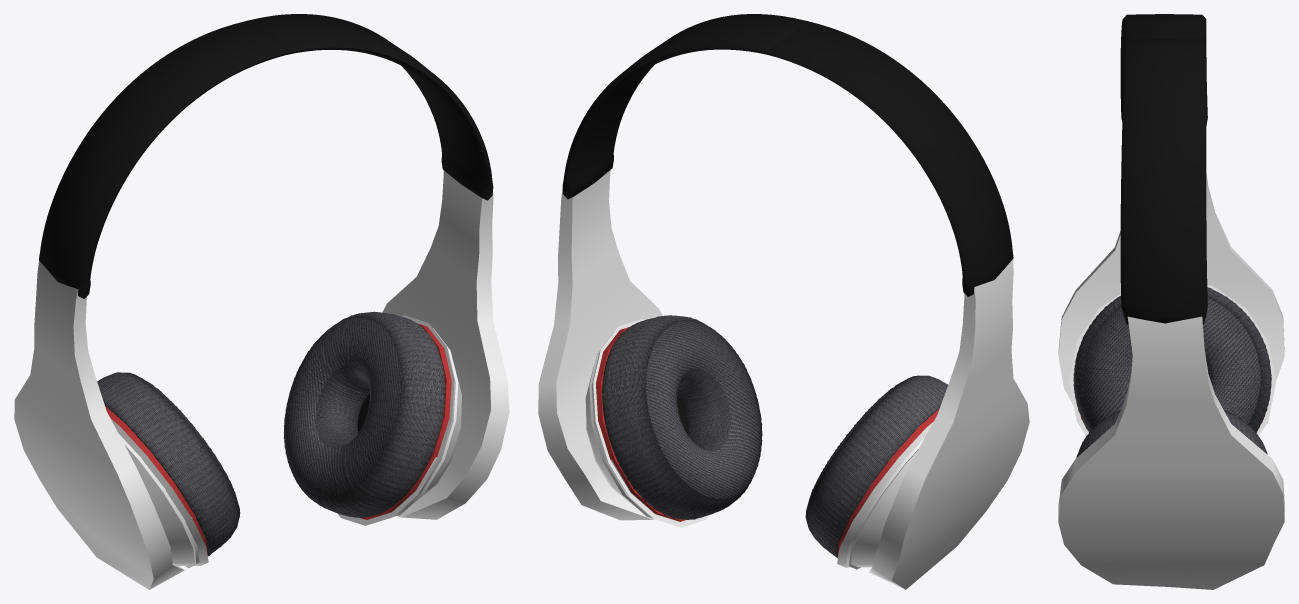
File: Headphone.fbx
3 views of the same model, side by side, from view 1: azimuth 30°, elevation 25°; view 2: azimuth 150°, elevation 25°; view 3: azimuth 270°, elevation 25° (orthographic). The views are drawn at different scales.
Visible parts, largest first — view 1: Cube, Tube, Sweep, Loft_5, Loft_4, Loft; view 2: Cube, Tube, Sweep, Loft_5, Loft_4, Loft; view 3: Cube, Sweep, Tube, Loft_5.
Part boxes in pixels (x1,y1,x2,y2): Cube: (14,170,509,589); Tube: (97,311,445,556); Sweep: (39,14,493,298); Loft_5: (110,315,461,565); Loft_4: (105,323,451,555); Loft: (119,328,458,567); Cube: (538,170,1029,589); Tube: (601,315,947,557); Sweep: (562,14,1013,296); Loft_5: (585,319,933,567); Loft_4: (596,327,939,556); Loft: (589,332,924,569); Cube: (1058,173,1284,589); Sweep: (1120,14,1207,324); Tube: (1073,287,1271,457); Loft_5: (1069,285,1276,435).
Bounding box in the file's own units: 15.43 × 17.96 × 7.55.
Materials: 4 (1 with a texture image).
